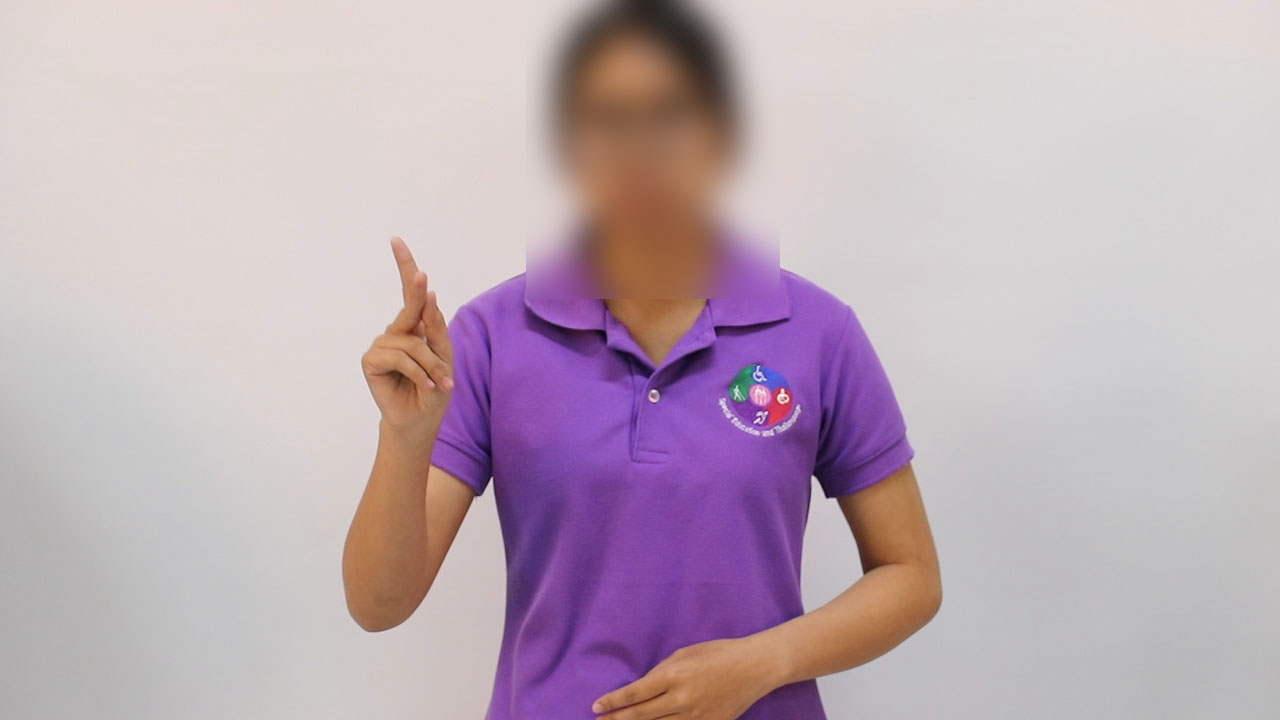ko: (338, 230, 468, 442)
